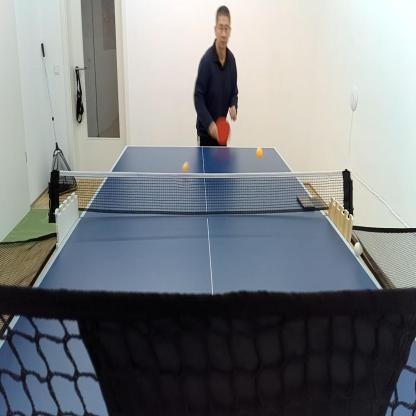Ball: (353, 240, 363, 258), (255, 145, 264, 159), (181, 160, 190, 172)
